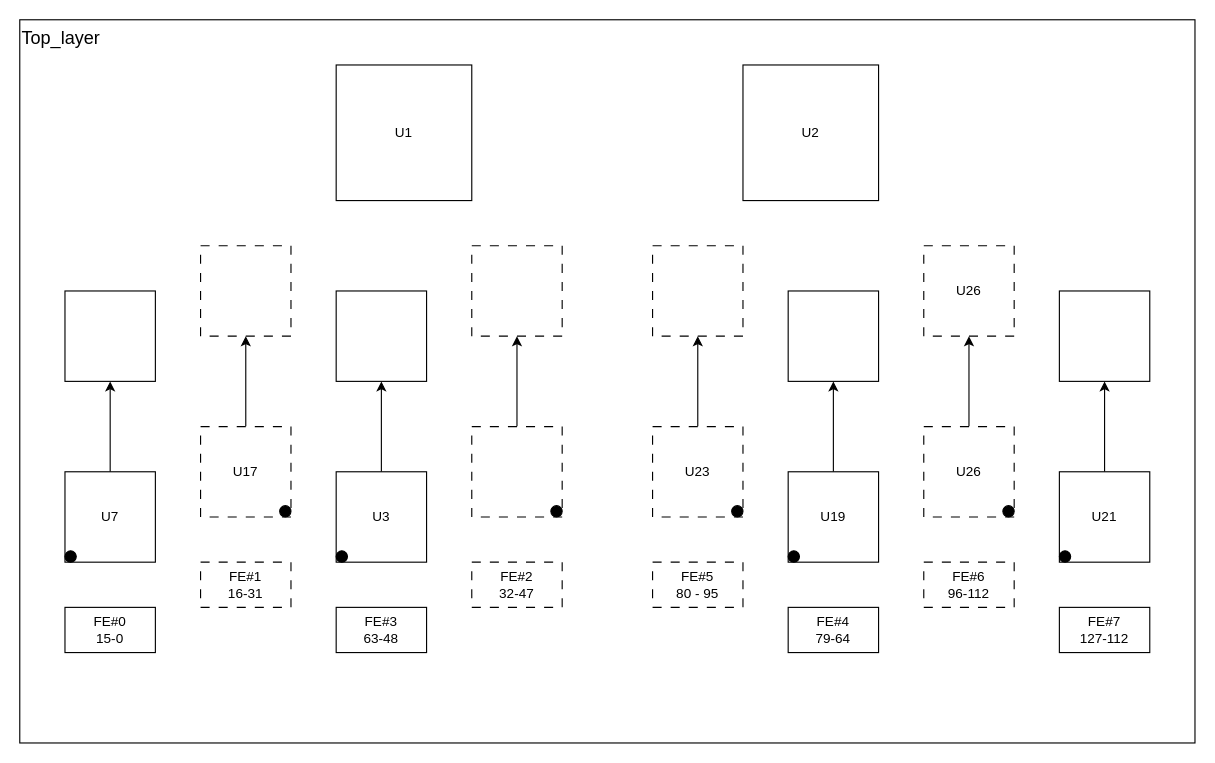
Some shapes in this 1215 by 763 pixel diagram are drawn without their labels. The box of each missing label's shape, as (x1, y1, x2, y2) in pixels:
U10: (64, 290, 155, 381)
U11: (471, 425, 562, 517)
U13: (471, 245, 562, 336)
U18: (199, 245, 291, 336)
U20: (787, 290, 879, 381)
U22: (1058, 290, 1150, 381)
U24: (651, 245, 743, 336)
U6: (335, 290, 427, 381)
